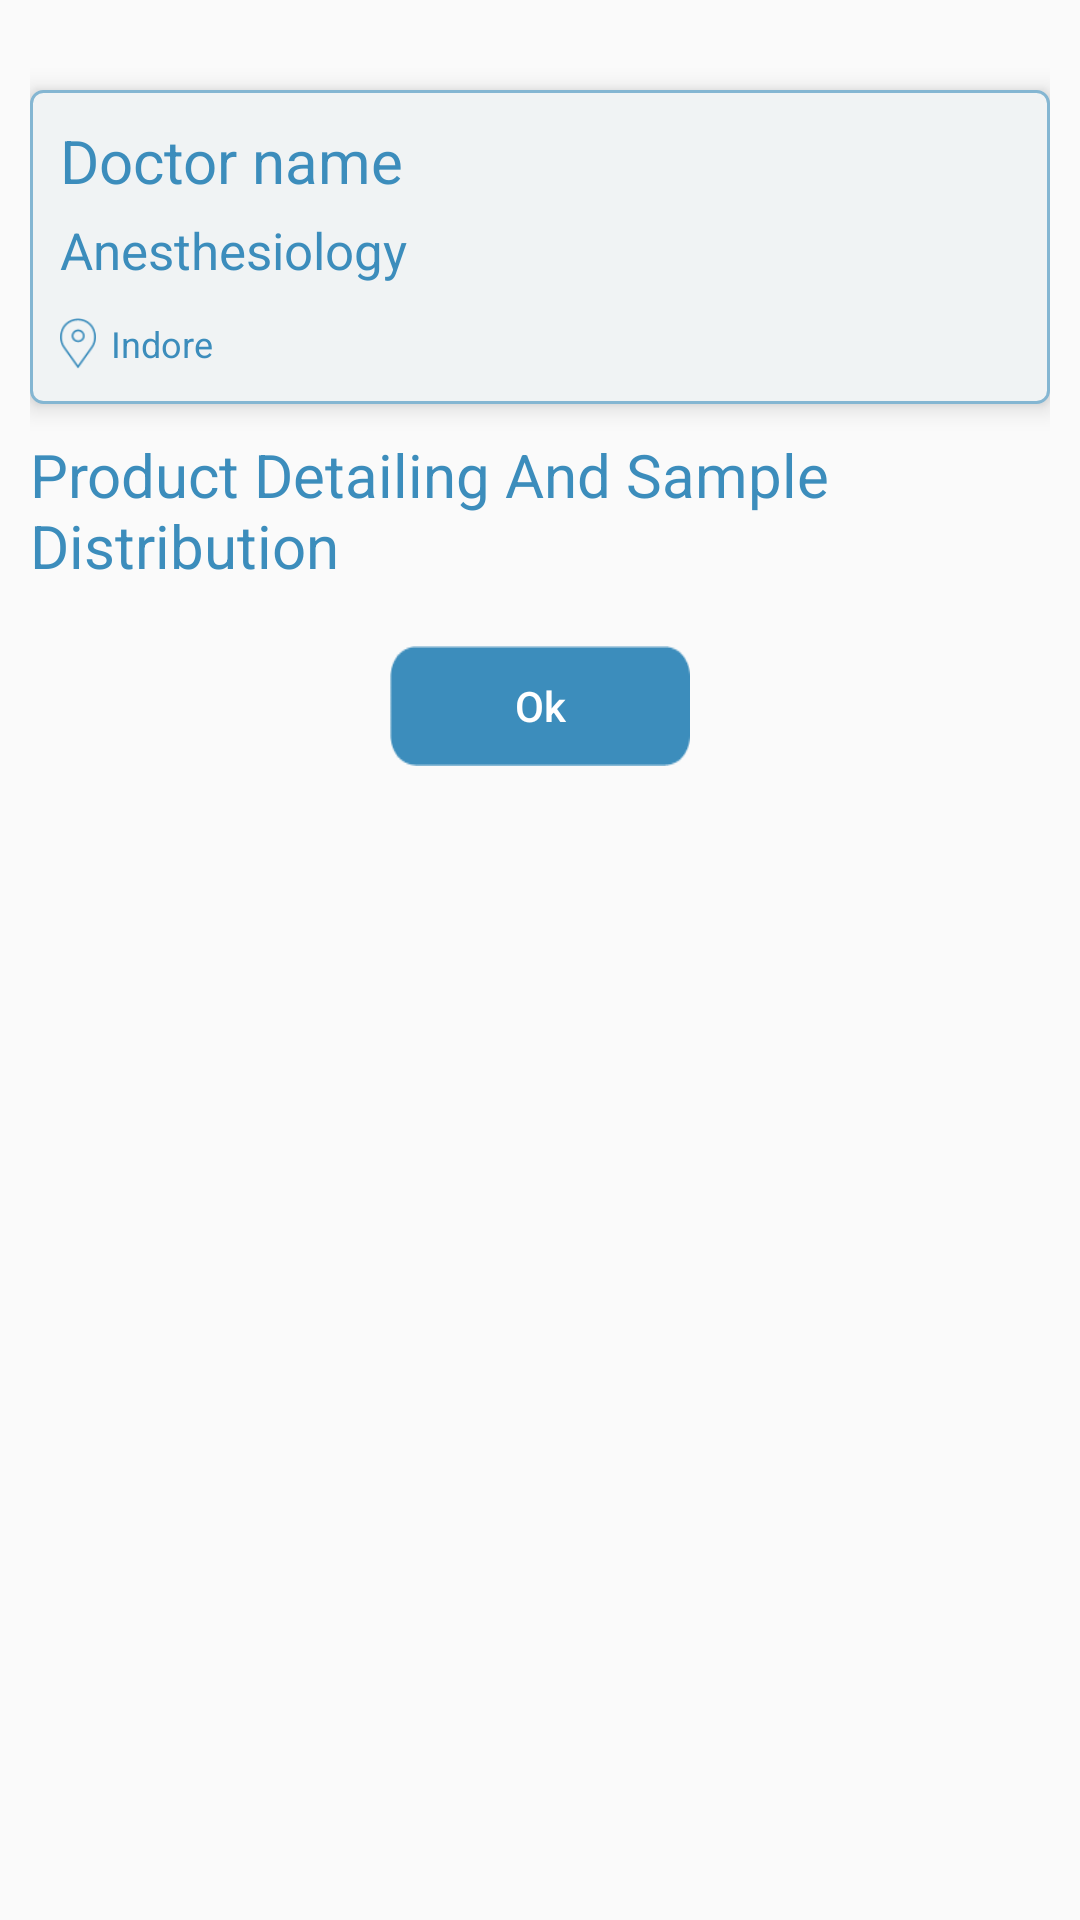

Named icons in this screenshot (1080 × 1920) and their bounding boxes, (x1, y1, x2, y2):
location: (60, 318, 96, 368)
